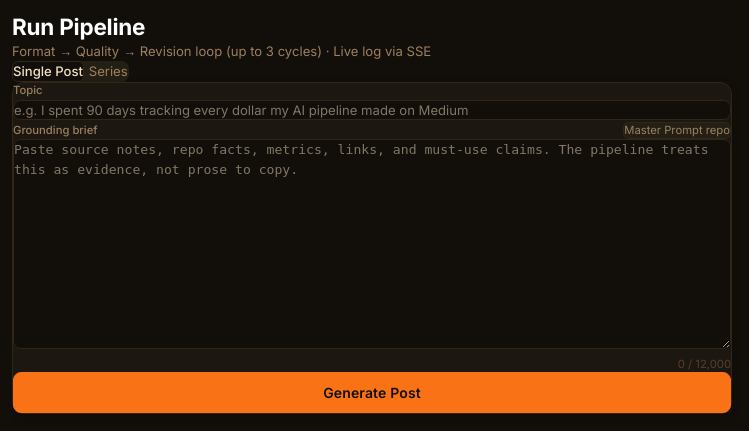
Test case: PipelinePage › Series tab › clicking Series tab shows the theme input
Click the button with test id "tab-series". click: point(108, 71)
box: [88, 61, 129, 82]
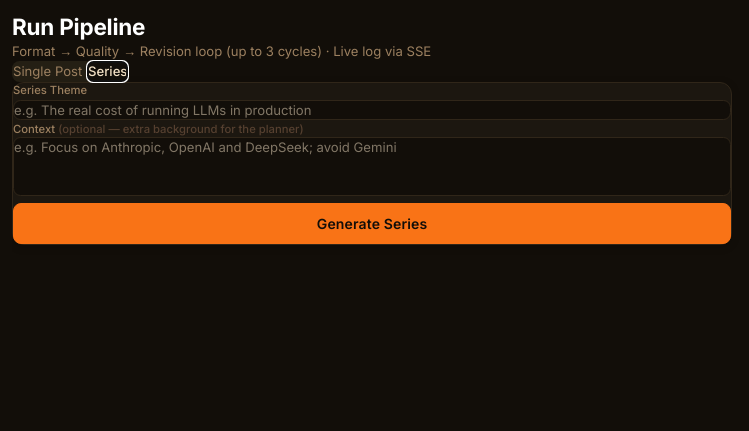
expect the field with test id "theme-input" is shown: met, box [13, 100, 731, 120]
